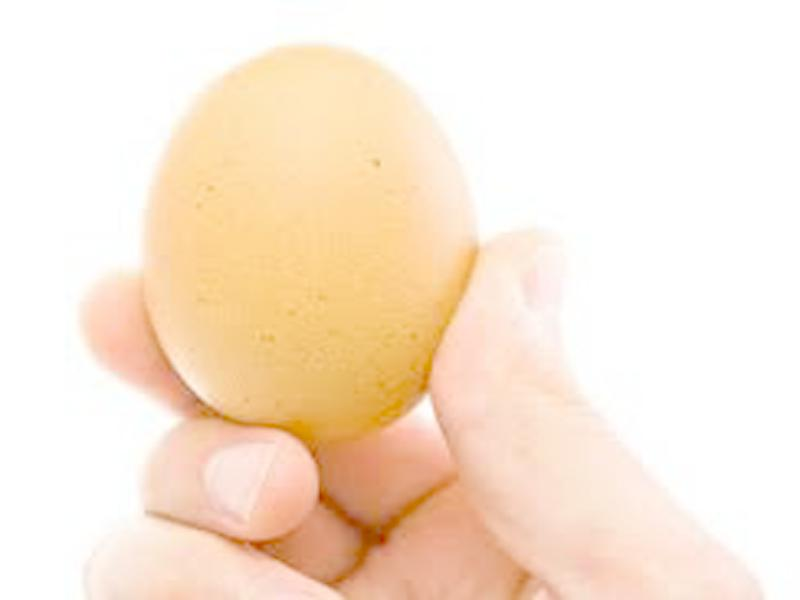Eggs: (140, 41, 478, 432)
